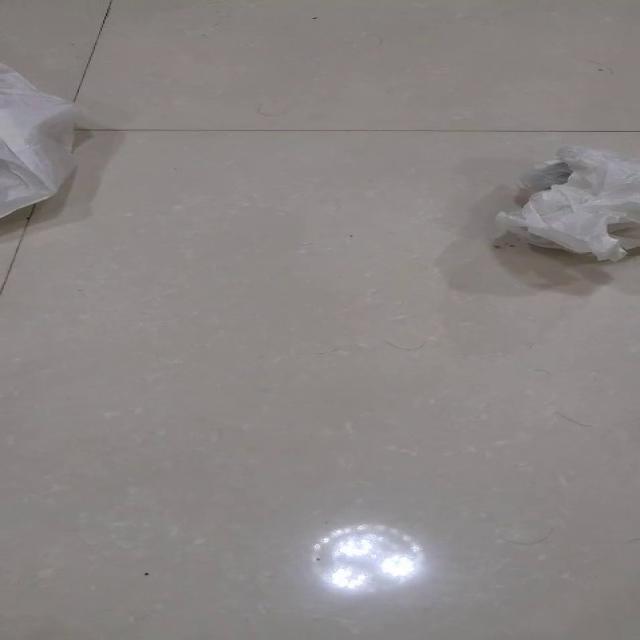plastic: (492, 144, 638, 262), (0, 61, 78, 219)
